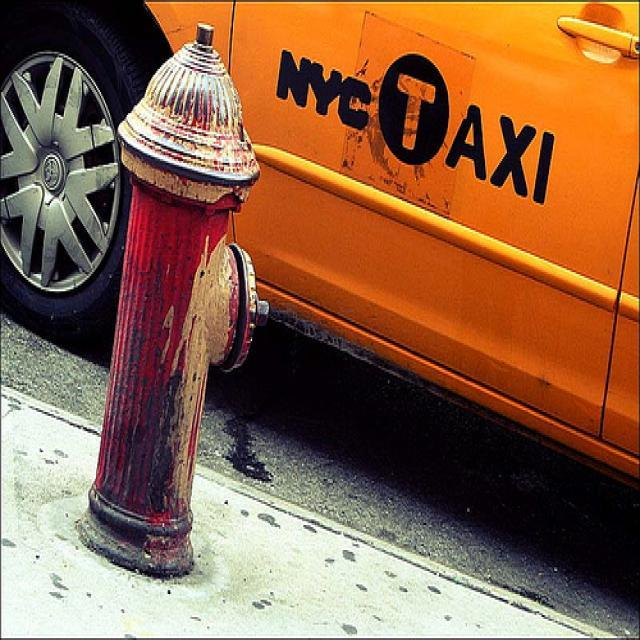fire_hydrant: (79, 21, 269, 577)
